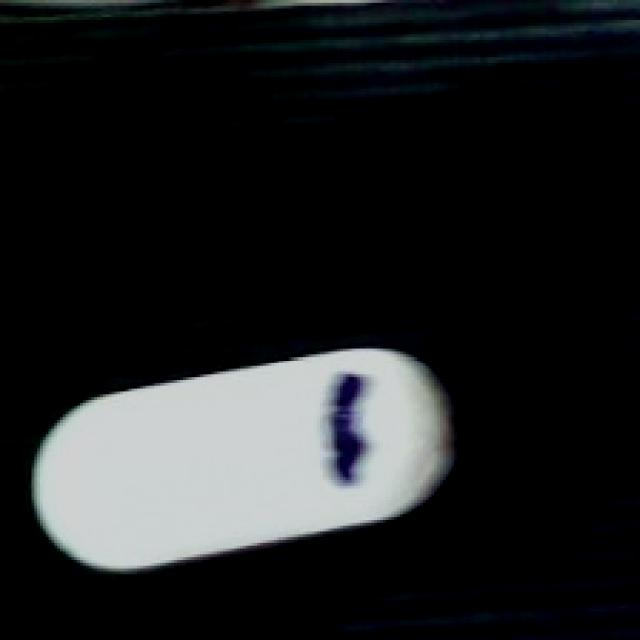defected: (29, 343, 468, 574)
